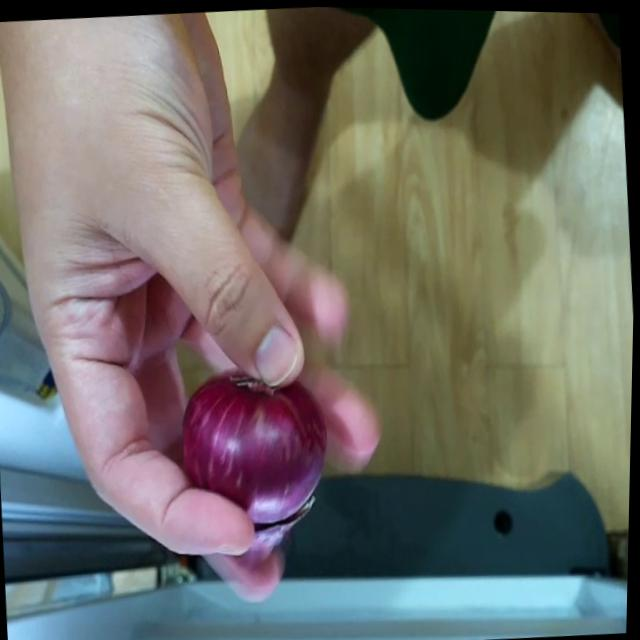onion: (180, 361, 341, 531)
